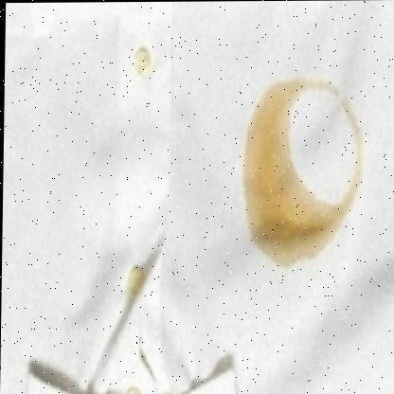coffee: (242, 91, 303, 189), (247, 192, 330, 256)
